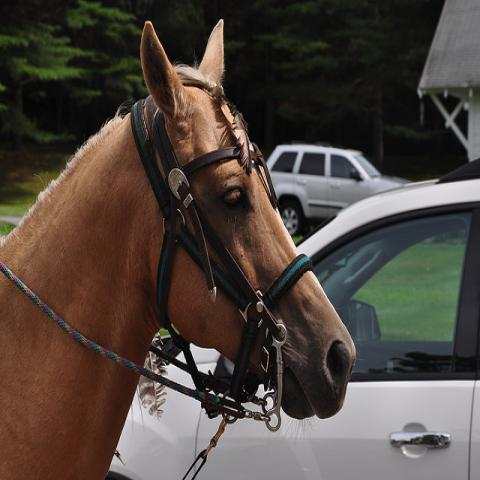car: (111, 173, 479, 479), (262, 144, 416, 236)
